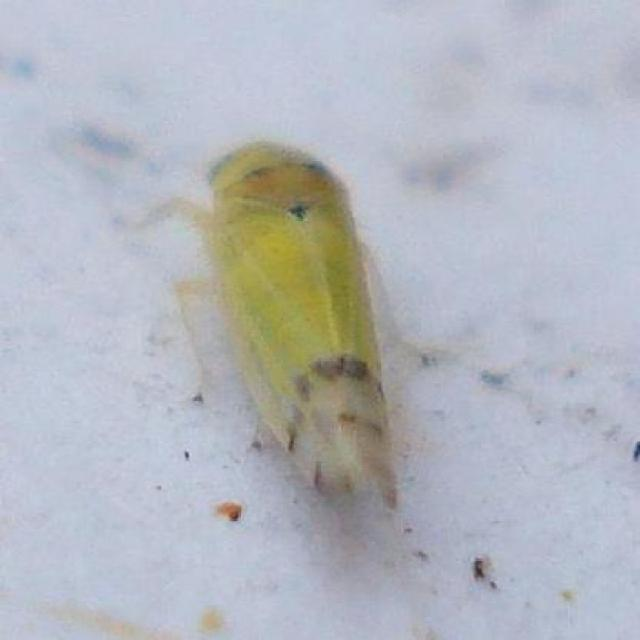green-leafhopper: (196, 142, 407, 509)
